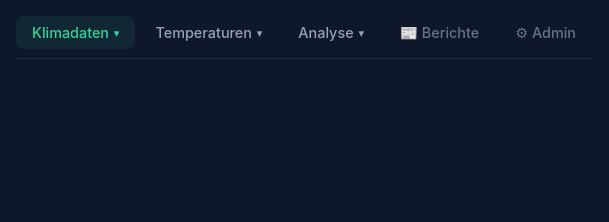
Test: NavBar › öffnet Dropdown bei Hover auf Klimadaten
Hover over the text "Klimadaten" at (76,32), box 16,16 -> 136,49
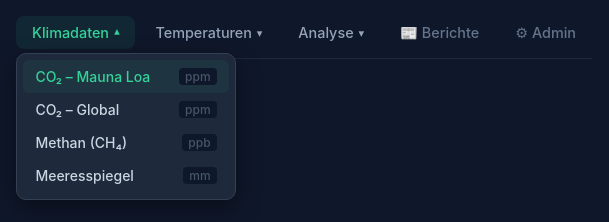
Now the text "CO₂ – Mauna Loa" is shown, box 35,68 -> 150,85
Now the text "Methan (CH₄)" is shown, box 35,134 -> 127,151
